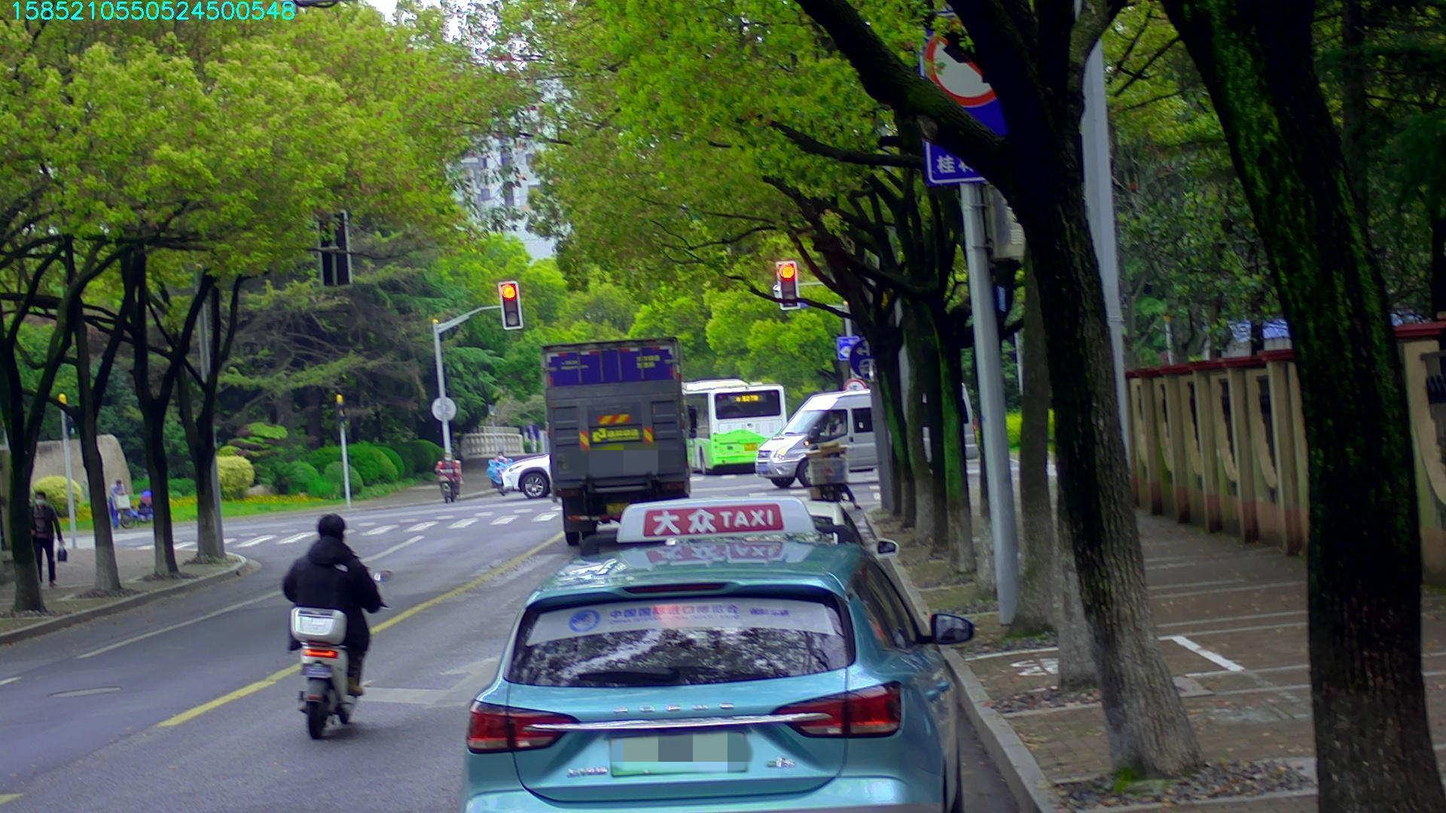red: (777, 261, 798, 308), (499, 282, 520, 327)
